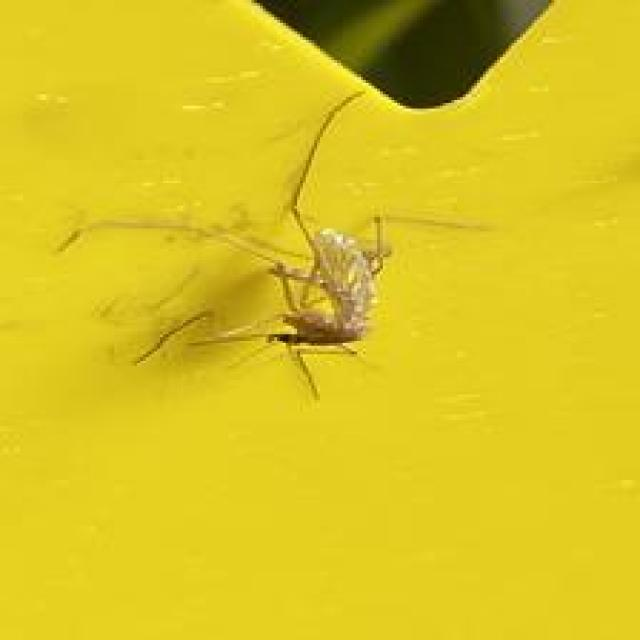Culex: (56, 202, 496, 402)
